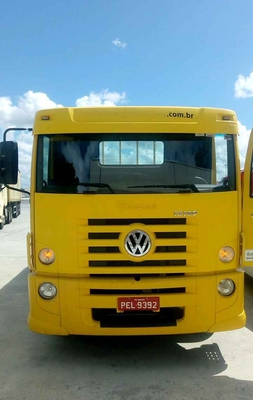Frontal Caminhao: (1, 105, 249, 339)
